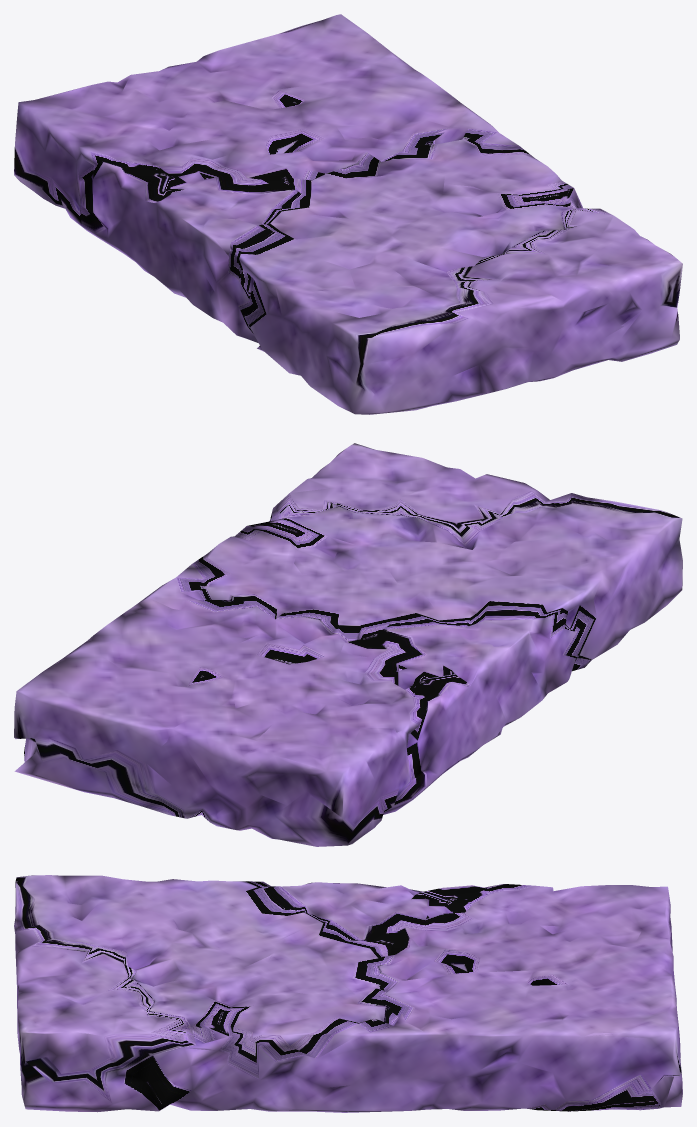
File: gso_big_o_sponges_assorted_cellulose_12_pack.glb
The picture shows the model from 3 angles, top to bottom: view 1: azimuth 30°, elevation 25°; view 2: azimuth 150°, elevation 25°; view 3: azimuth 270°, elevation 25°; orthographic projection. The views are drawn at different scales.
Visible parts, largest first — view 1: z-up-to-y-up; view 2: z-up-to-y-up; view 3: z-up-to-y-up.
Boxes of the visible parts, bbox=[...] form: z-up-to-y-up: bbox=[14, 14, 682, 414]; z-up-to-y-up: bbox=[14, 443, 682, 846]; z-up-to-y-up: bbox=[14, 875, 682, 1112].
Size of the model in its own units: 0.0698 by 0.0186 by 0.1256.
1 material, 1 textured.
